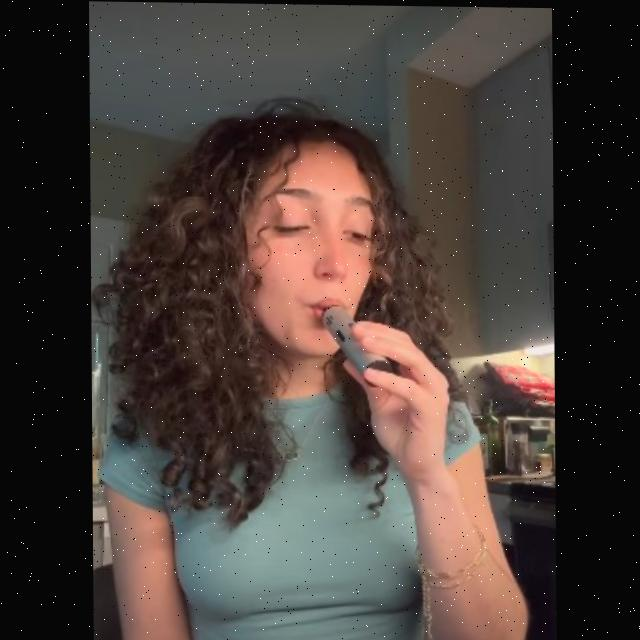vape: (319, 302, 393, 388)
